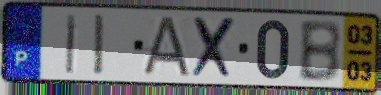0: (254, 18, 292, 82)
A: (138, 15, 194, 79)
B: (297, 18, 343, 85)
I: (64, 12, 79, 76), (93, 12, 107, 78)
X: (191, 14, 239, 82)
